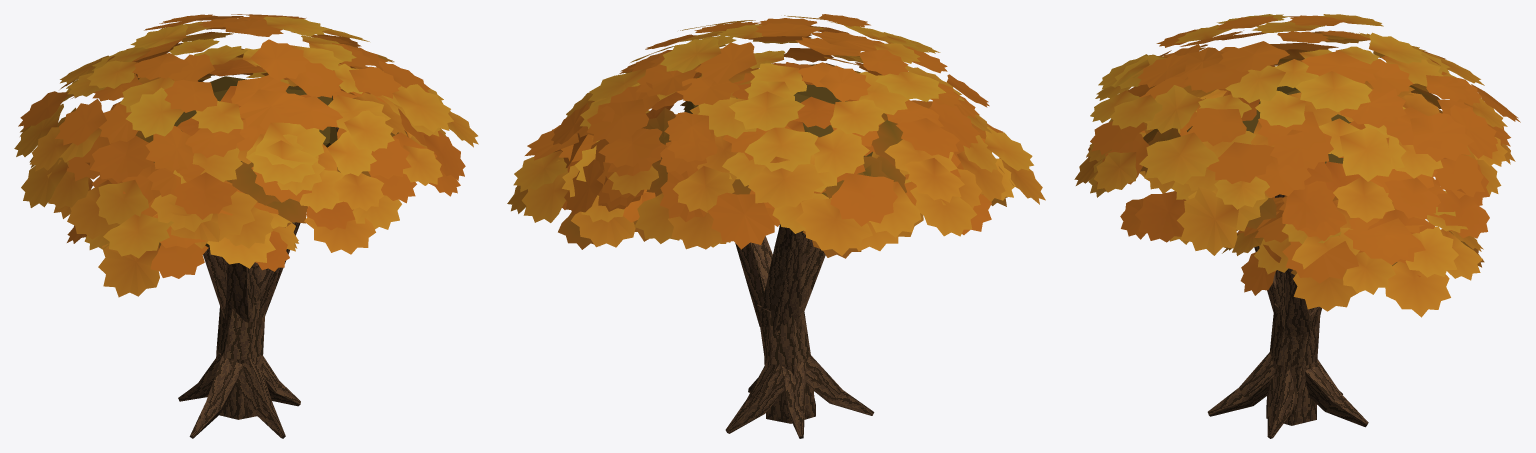
Rendered from tree_big.glb.
3 views of the same model, side by side, from view 1: azimuth 30°, elevation 25°; view 2: azimuth 150°, elevation 25°; view 3: azimuth 270°, elevation 25° (orthographic). The views are drawn at different scales.
Visible parts, largest first — view 1: sway_crown.006, tree_big; view 2: sway_crown.006, tree_big; view 3: sway_crown.006, tree_big.
Boxes of the visible parts, bbox=[...] form: sway_crown.006: bbox=[14, 14, 478, 322]; tree_big: bbox=[178, 298, 300, 438]; sway_crown.006: bbox=[507, 14, 1045, 334]; tree_big: bbox=[725, 304, 874, 438]; sway_crown.006: bbox=[1074, 14, 1520, 336]; tree_big: bbox=[1207, 303, 1368, 438].
Size of the model in its own units: 9.86 by 8.22 by 8.9.
3 materials, 1 textured.
